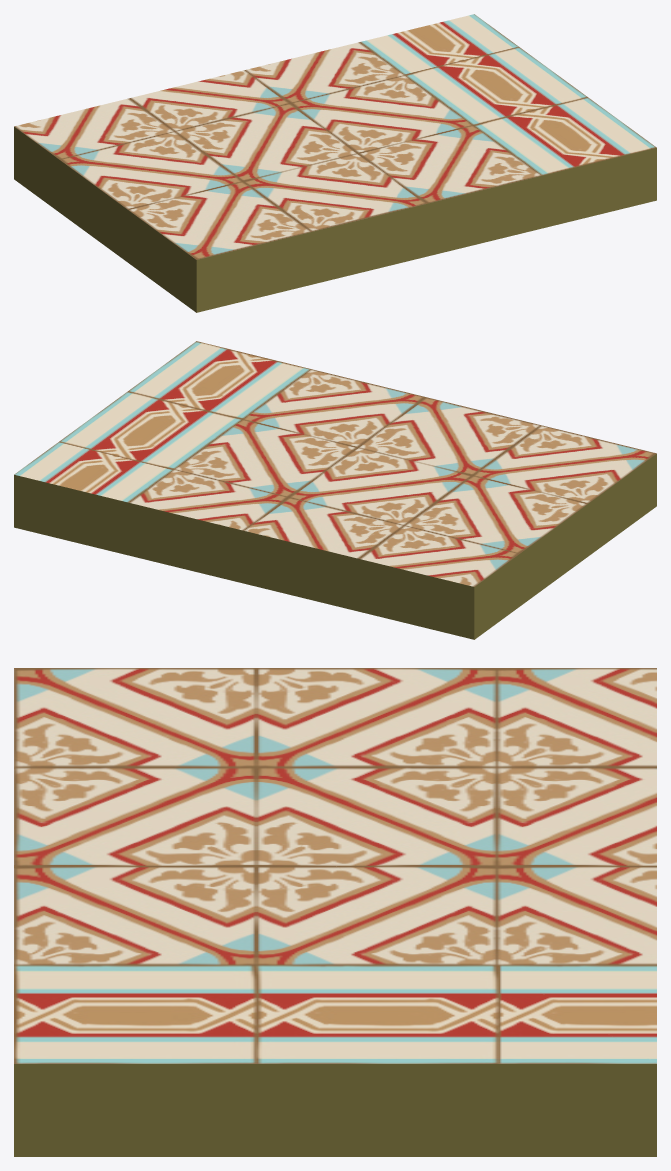
File: Parkour2.fbx
The picture shows the model from 3 angles, top to bottom: view 1: azimuth 30°, elevation 25°; view 2: azimuth 150°, elevation 25°; view 3: azimuth 270°, elevation 25°; orthographic projection. The views are drawn at different scales.
Visible parts, largest first — view 1: SM_Cube.001; view 2: SM_Cube.001; view 3: SM_Cube.001.
Part boxes in pixels (x1,y1,x2,y2): SM_Cube.001: (14,14,656,312); SM_Cube.001: (14,341,656,639); SM_Cube.001: (14,668,656,1156).
Bounding box in the file's own units: 306 × 33.56 × 210.
1 material, 1 textured.
